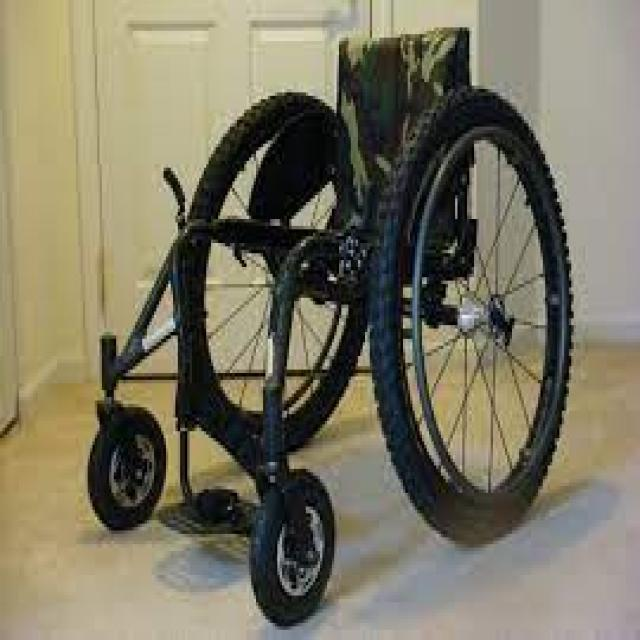wheelchairs: (81, 31, 590, 626)
